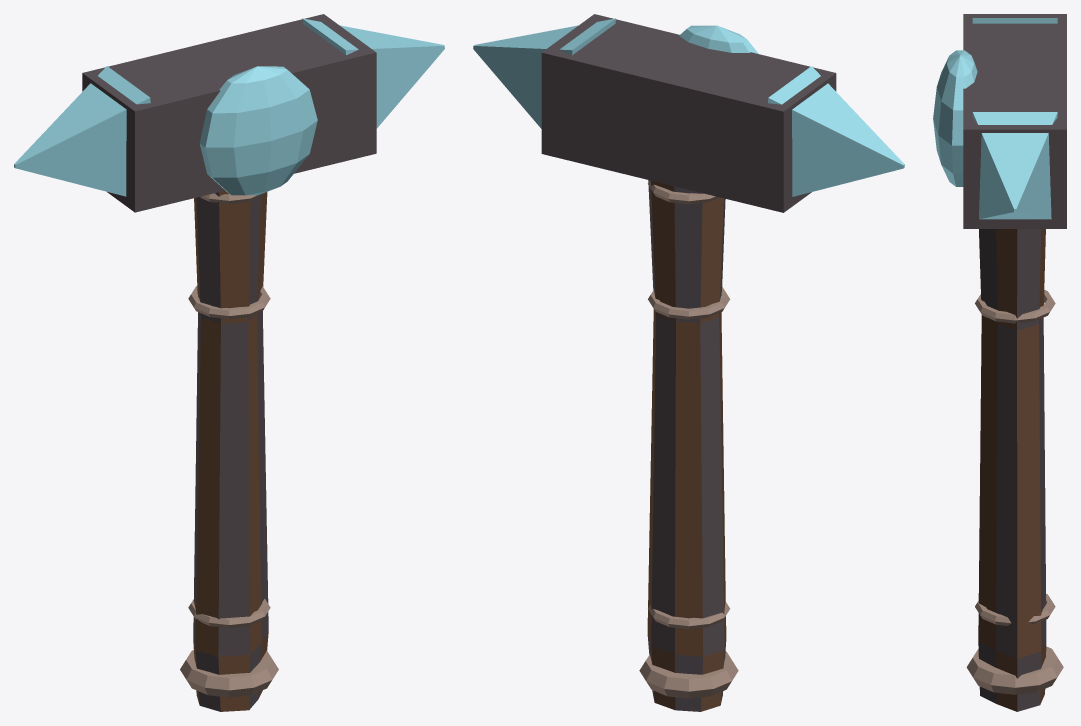
Rendered from BH_PICK_P01_Picareta_Runica_de_Pedra_V01.glb.
3 views of the same model, side by side, from view 1: azimuth 30°, elevation 25°; view 2: azimuth 150°, elevation 25°; view 3: azimuth 270°, elevation 25° (orthographic). The views are drawn at different scales.
Parts seen in each view (by area): view 1: Handle | shaped shaft.001, Head | main crossbar.001, Core | socket gem.001, Head | mining tooth L.001, Head | mining tooth R.001, Handle | pommel.001, Handle | binding 3.001, Handle | binding 1.001; view 2: Head | main crossbar.001, Handle | shaped shaft.001, Head | mining tooth L.001, Head | mining tooth R.001, Handle | pommel.001, Core | socket gem.001, Handle | binding 3.001, Handle | binding 1.001, Handle | binding 5.001; view 3: Handle | shaped shaft.001, Head | main crossbar.001, Head | mining tooth R.001, Core | socket gem.001, Handle | pommel.001, Handle | binding 3.001, Handle | binding 1.001, Head | mining tooth L.001.
Boxes of the visible parts, x1=… form: Handle | shaped shaft.001: x1=193, y1=190, x2=268, y2=711; Head | main crossbar.001: x1=82, y1=14, x2=376, y2=212; Core | socket gem.001: x1=199, y1=66, x2=317, y2=195; Head | mining tooth L.001: x1=14, y1=66, x2=150, y2=196; Head | mining tooth R.001: x1=302, y1=18, x2=444, y2=128; Handle | pommel.001: x1=180, y1=650, x2=278, y2=697; Handle | binding 3.001: x1=188, y1=286, x2=270, y2=319; Handle | binding 1.001: x1=188, y1=598, x2=270, y2=628; Head | main crossbar.001: x1=541, y1=14, x2=836, y2=212; Handle | shaped shaft.001: x1=647, y1=180, x2=726, y2=711; Head | mining tooth L.001: x1=768, y1=66, x2=904, y2=196; Head | mining tooth R.001: x1=473, y1=18, x2=615, y2=128; Handle | pommel.001: x1=639, y1=651, x2=738, y2=698; Core | socket gem.001: x1=679, y1=25, x2=758, y2=53; Handle | binding 3.001: x1=648, y1=287, x2=730, y2=319; Handle | binding 1.001: x1=648, y1=602, x2=730, y2=629; Handle | binding 5.001: x1=648, y1=180, x2=719, y2=204; Handle | shaped shaft.001: x1=978, y1=229, x2=1046, y2=711; Head | main crossbar.001: x1=963, y1=14, x2=1066, y2=228; Head | mining tooth R.001: x1=972, y1=112, x2=1057, y2=219; Core | socket gem.001: x1=933, y1=50, x2=977, y2=186; Handle | pommel.001: x1=966, y1=646, x2=1063, y2=694; Handle | binding 3.001: x1=975, y1=290, x2=1055, y2=323; Handle | binding 1.001: x1=975, y1=593, x2=1055, y2=625; Head | mining tooth L.001: x1=972, y1=18, x2=1057, y2=23.
Bounding box in the file's own units: 1.6 × 2.32 × 0.44.
